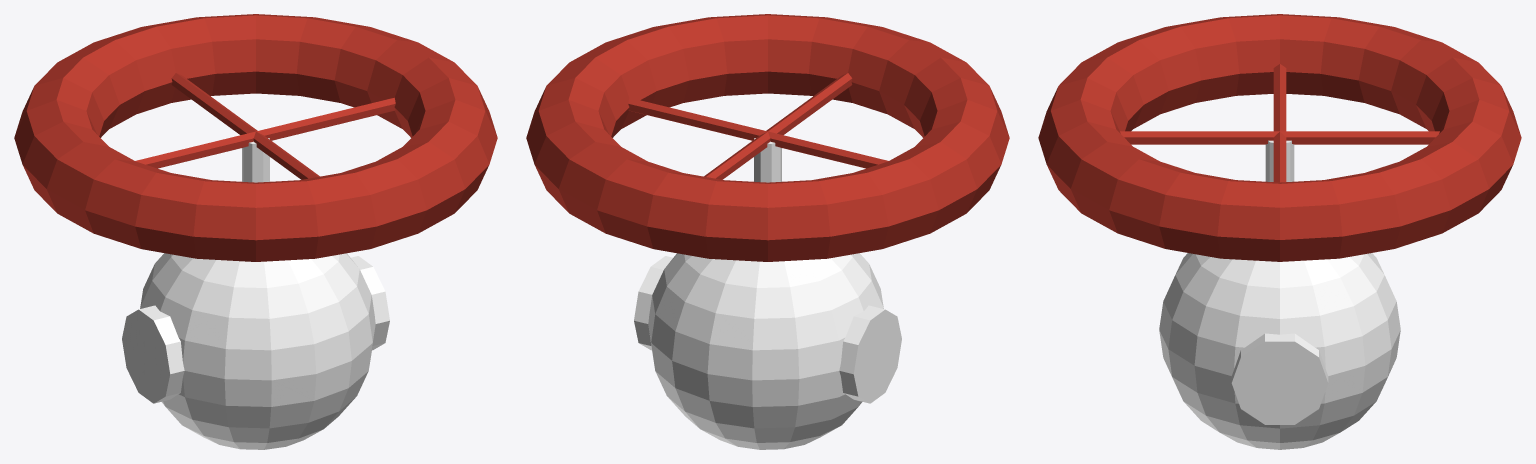
The model's file is valve.glb.
3 renders of one model, left to right at view 1: azimuth 30°, elevation 25°; view 2: azimuth 150°, elevation 25°; view 3: azimuth 270°, elevation 25°, orthographic.
Visible parts, largest first — view 1: handwheel.rim, globe, barrel, handwheel.spoke.1, handwheel.spoke.0, stem; view 2: handwheel.rim, globe, barrel, handwheel.spoke.1, handwheel.spoke.0, stem; view 3: handwheel.rim, globe, barrel, handwheel.spoke.0, handwheel.spoke.1, stem.
Part boxes in pixels (x1,y1,x2,y2): handwheel.rim: [14, 14, 497, 261]; globe: [140, 253, 375, 449]; barrel: [122, 256, 389, 403]; handwheel.spoke.1: [135, 97, 395, 168]; handwheel.spoke.0: [171, 73, 319, 179]; stem: [242, 138, 269, 182]; handwheel.rim: [526, 14, 1009, 261]; globe: [648, 253, 883, 449]; barrel: [634, 256, 901, 403]; handwheel.spoke.1: [628, 97, 888, 168]; handwheel.spoke.0: [704, 73, 852, 179]; stem: [754, 138, 781, 182]; handwheel.rim: [1038, 14, 1521, 261]; globe: [1159, 253, 1400, 449]; barrel: [1231, 333, 1328, 424]; handwheel.spoke.0: [1120, 131, 1439, 144]; handwheel.spoke.1: [1273, 64, 1286, 182]; stem: [1265, 140, 1294, 181].
Size of the model in its own units: 0.8 by 0.62 by 0.8.
